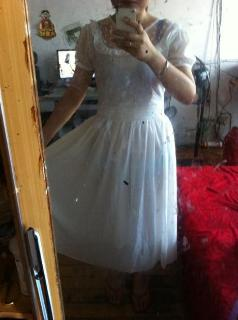short sleeve dress: (43, 15, 197, 273)
